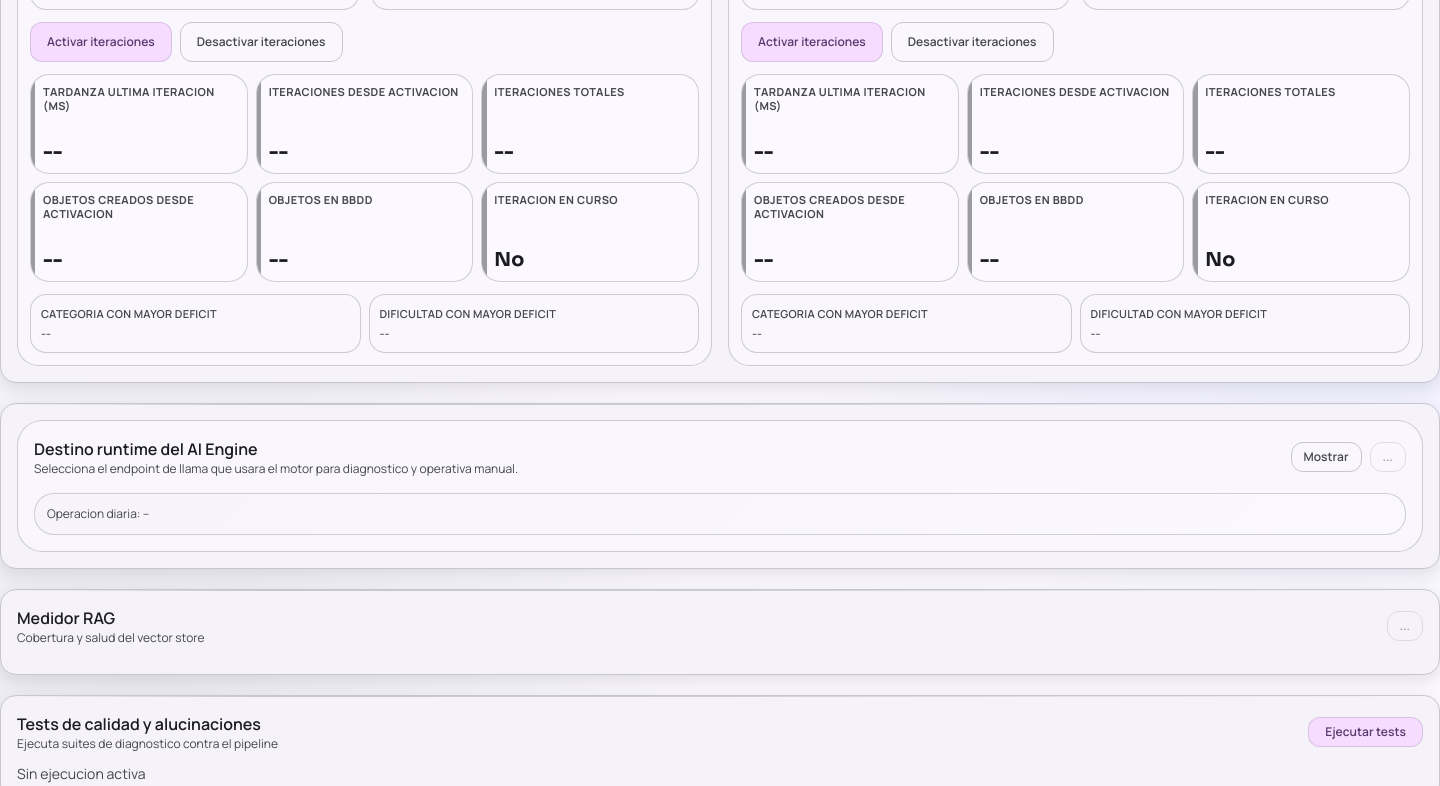
it: AIDiagnosticsPanel integration › shows errors when applying and resetting runtime target
The image size is (1440, 786).
(page scrolled)
Click the button "Mostrar": (1326, 457) left=1291, top=442, right=1362, bottom=472
(page scrolled)
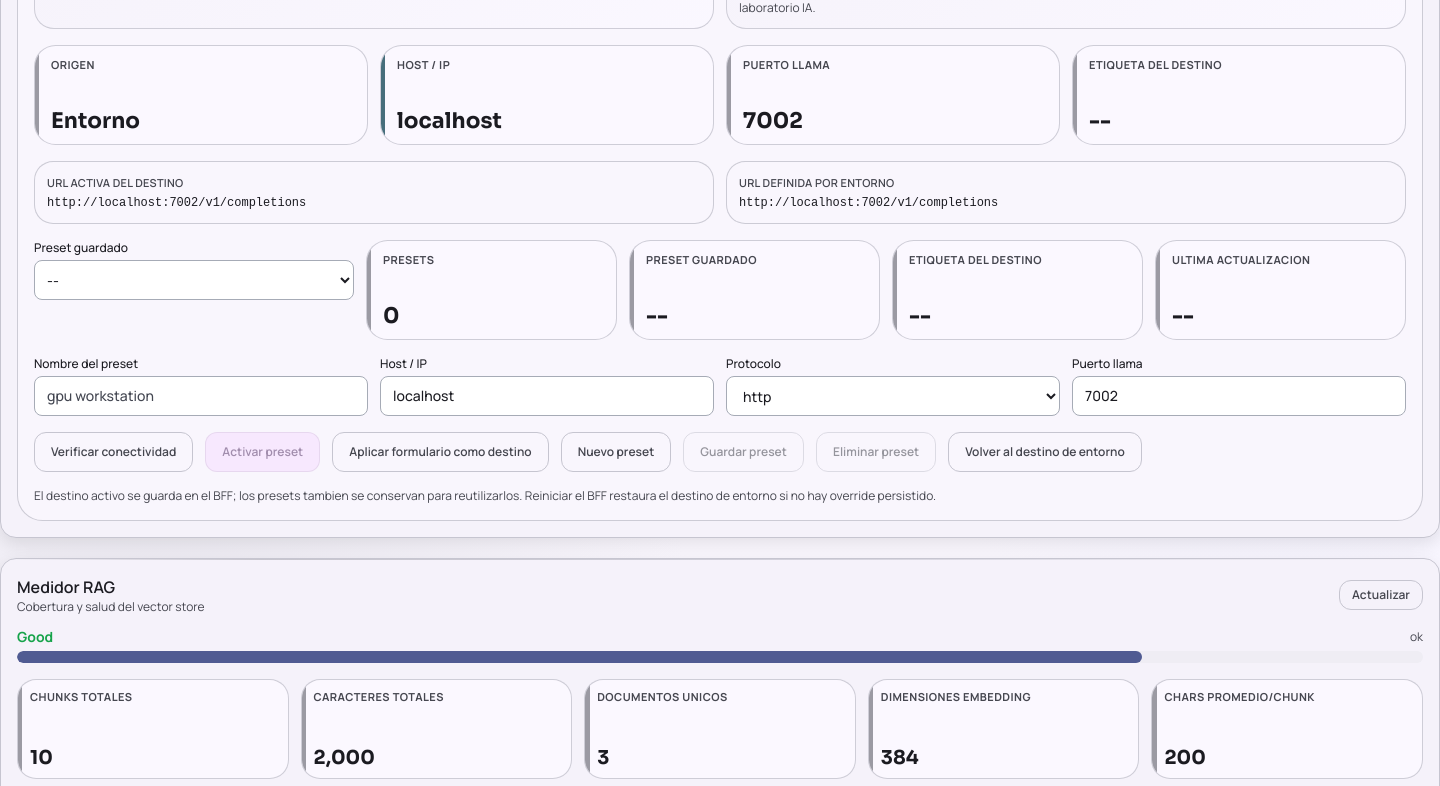
Check: the field showing "localhost" is shown
Replace the text in the field showing "localhost" with "ai.error": (547, 396) left=380, top=376, right=714, bottom=416
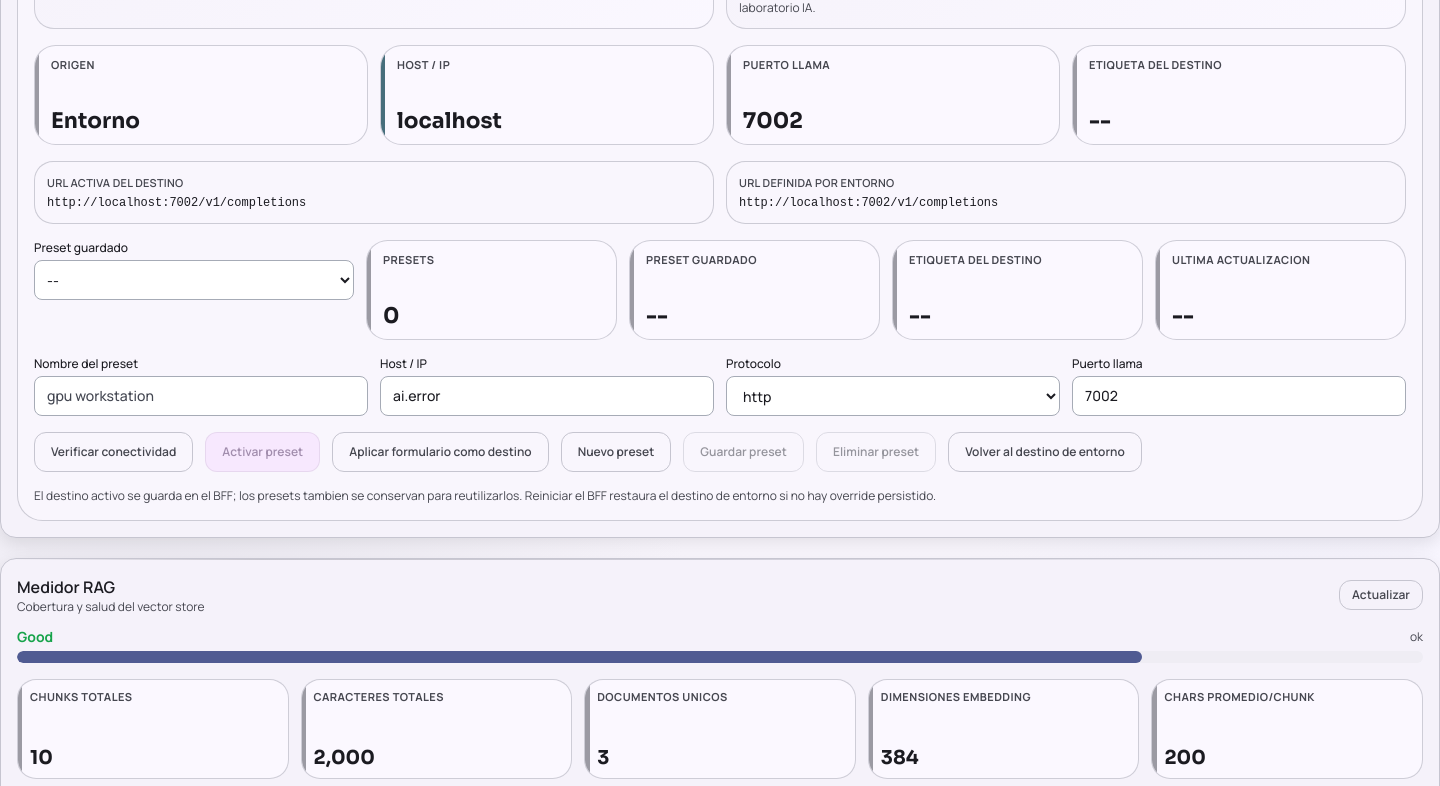
Click the button "Aplicar formulario como destino": (440, 452) left=332, top=432, right=549, bottom=472
(page scrolled)
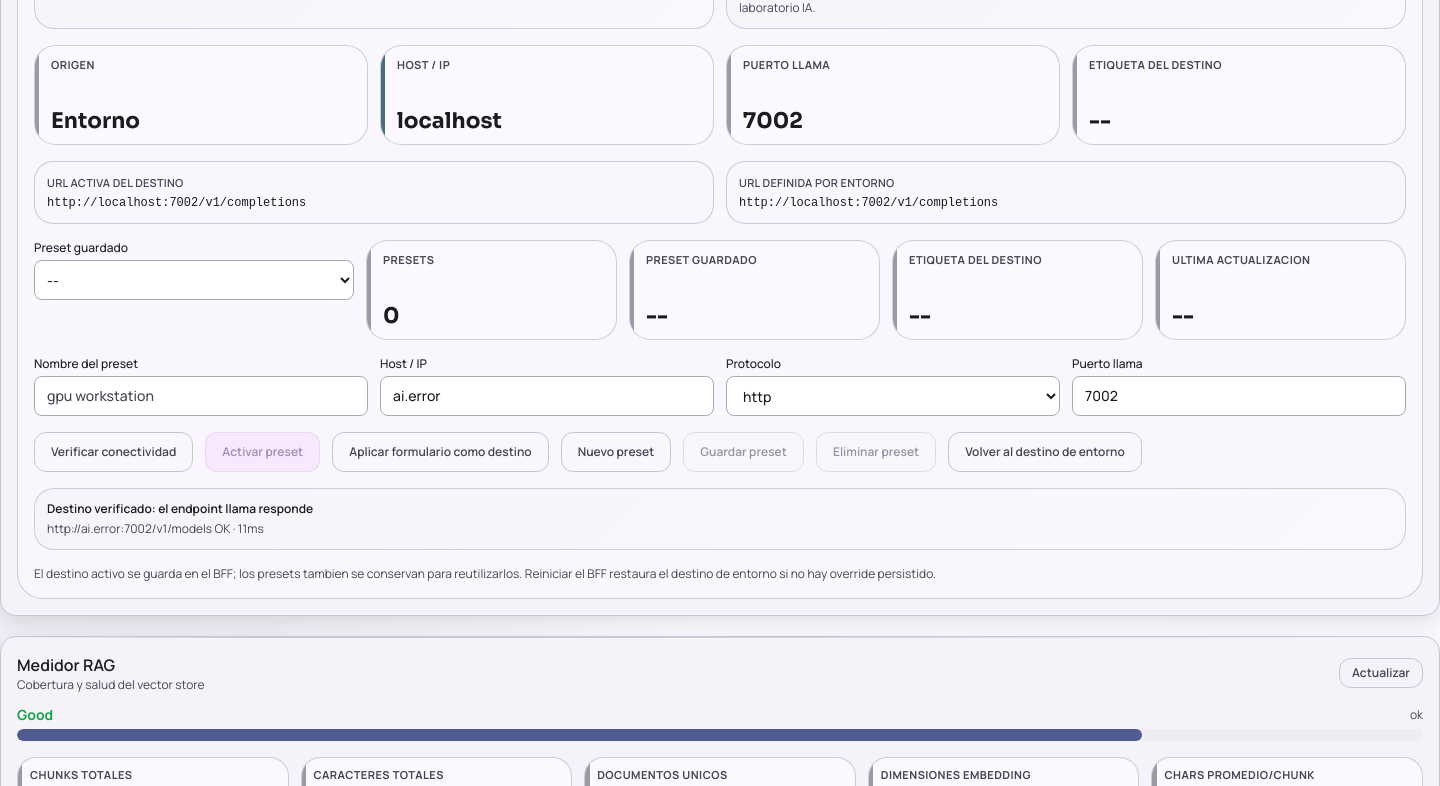
Click the button "Volver al destino de entorno": (1045, 452) left=948, top=432, right=1142, bottom=472
(page scrolled)
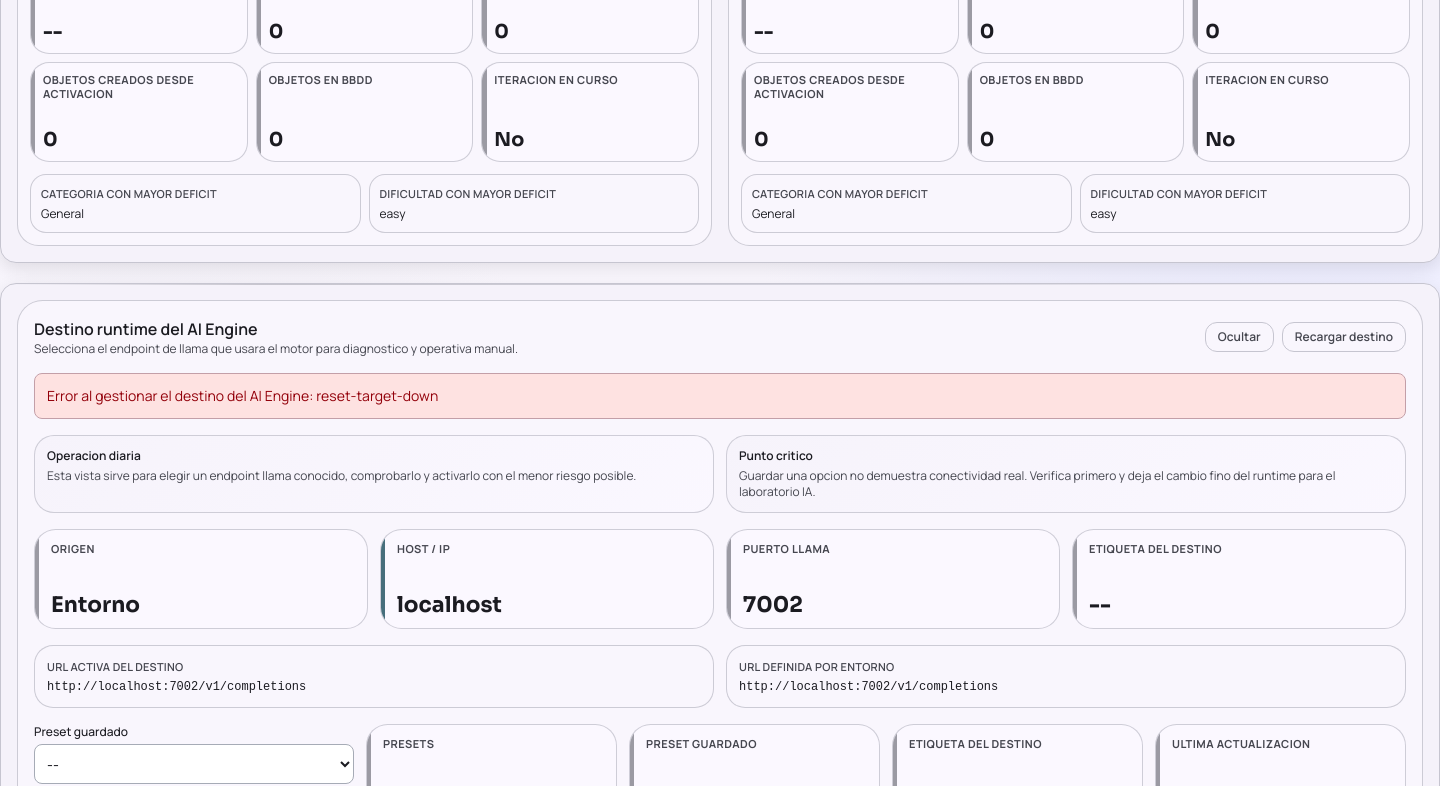
Check: the text "Error al gestionar el destino del AI Engine: reset-target-down" is shown, box left=34, top=373, right=1406, bottom=419
